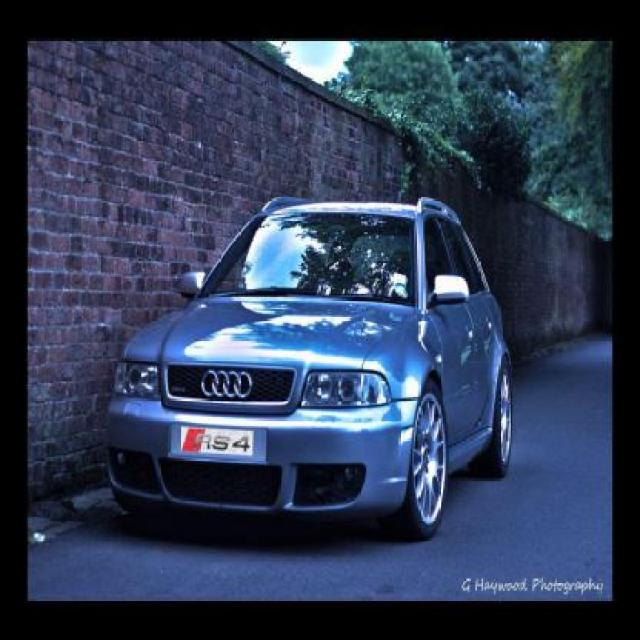Licenseplate: (168, 422, 271, 462)
